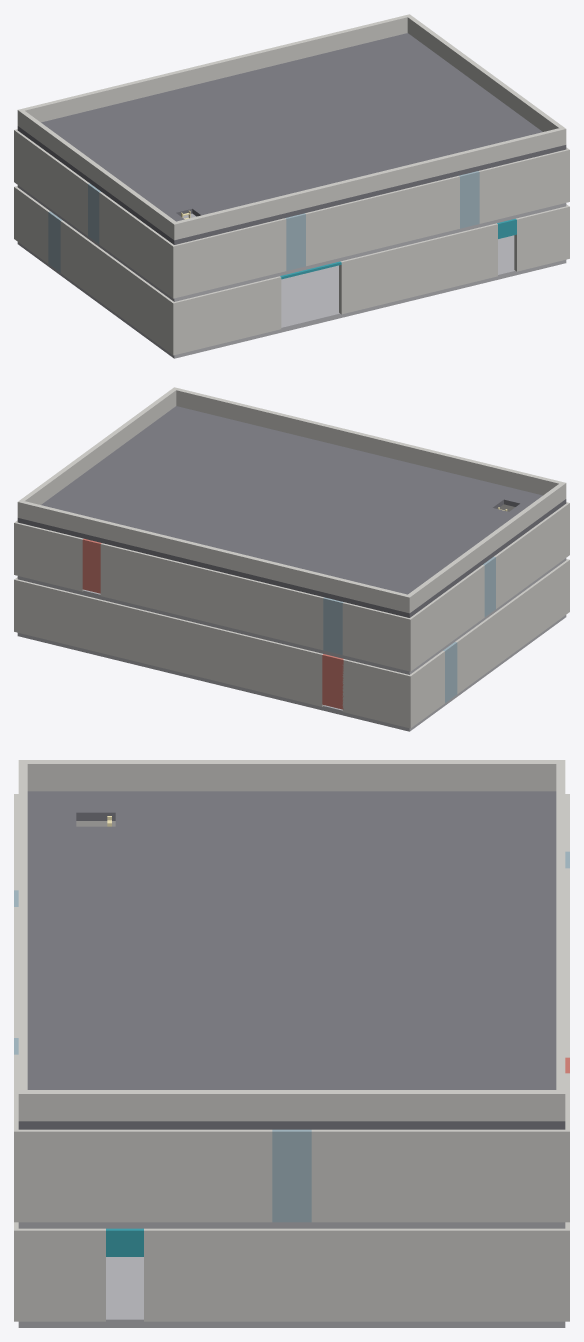
Rendered from auto_shop_a02.glb.
3 renders of one model, top to bottom at view 1: azimuth 30°, elevation 25°; view 2: azimuth 150°, elevation 25°; view 3: azimuth 270°, elevation 25°, orthographic. The views are drawn at different scales.
Visible parts, largest first — view 1: slab_2_t1_2, slab_2_t1_4, slab_2_t2_4, slab_2_t2_2, slab_2_t1_1, slab_2_t1_3, slab_2_t2_1, slab_2_t2_3, slab_2_t3_1, slab_2_t3_3, slab_2_t3_2, slab_2_t3_4 (+77 smaller); view 2: slab_2_t1_4, slab_2_t2_2, slab_2_t2_4, slab_2_t1_2, slab_2_t2_1, slab_2_t2_3, slab_2_t1_1, slab_2_t1_3, slab_2_t0_1, slab_2_t0_3, slab_2_t0_2, slab_2_t0_4 (+76 smaller); view 3: slab_2_t1_1, slab_2_t1_2, slab_2_t1_3, slab_2_t1_4, slab_2_t2_1, slab_2_t2_2, slab_2_t2_3, slab_2_t2_4, slab_2_t1_0, slab_2_t2_0, slab_2_t0_1, slab_2_t0_2 (+55 smaller).
Boxes of the visible parts, <box> form: slab_2_t1_2: <box>227,135,330,179</box>; slab_2_t1_4: <box>357,103,461,147</box>; slab_2_t2_4: <box>318,74,422,118</box>; slab_2_t2_2: <box>188,106,291,150</box>; slab_2_t1_1: <box>161,151,265,195</box>; slab_2_t1_3: <box>292,119,395,163</box>; slab_2_t2_1: <box>122,122,226,166</box>; slab_2_t2_3: <box>253,90,356,134</box>; slab_2_t3_1: <box>86,95,186,138</box>; slab_2_t3_3: <box>216,64,317,106</box>; slab_2_t3_2: <box>151,80,252,122</box>; slab_2_t3_4: <box>282,48,382,90</box>; slab_2_t1_4: <box>161,447,265,491</box>; slab_2_t2_2: <box>253,508,356,552</box>; slab_2_t2_4: <box>122,476,226,520</box>; slab_2_t1_2: <box>292,479,395,523</box>; slab_2_t2_1: <box>318,524,422,568</box>; slab_2_t2_3: <box>188,492,291,536</box>; slab_2_t1_1: <box>357,495,461,539</box>; slab_2_t1_3: <box>227,463,330,507</box>; slab_2_t0_1: <box>397,468,497,511</box>; slab_2_t0_3: <box>266,437,367,479</box>; slab_2_t0_2: <box>331,453,432,495</box>; slab_2_t0_4: <box>201,421,301,463</box>; slab_2_t1_1: <box>155,843,291,898</box>; slab_2_t1_2: <box>155,899,291,954</box>; slab_2_t1_3: <box>155,954,291,1009</box>; slab_2_t1_4: <box>155,1010,291,1065</box>; slab_2_t2_1: <box>292,843,428,898</box>; slab_2_t2_2: <box>292,899,428,954</box>; slab_2_t2_3: <box>292,954,428,1009</box>; slab_2_t2_4: <box>292,1010,428,1065</box>; slab_2_t1_0: <box>155,791,291,843</box>; slab_2_t2_0: <box>292,791,428,843</box>; slab_2_t0_1: <box>27,843,155,898</box>; slab_2_t0_2: <box>27,899,155,954</box>.
Size of what is drawn, in the model's own units: 26.3 by 8.5 by 18.3.
